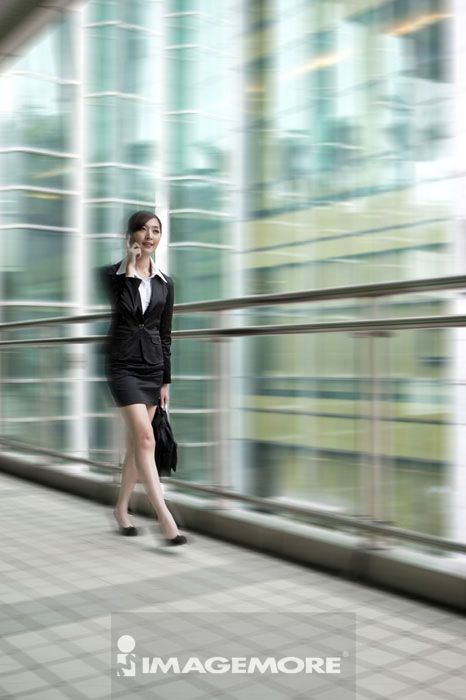talk: (125, 222, 162, 268)
